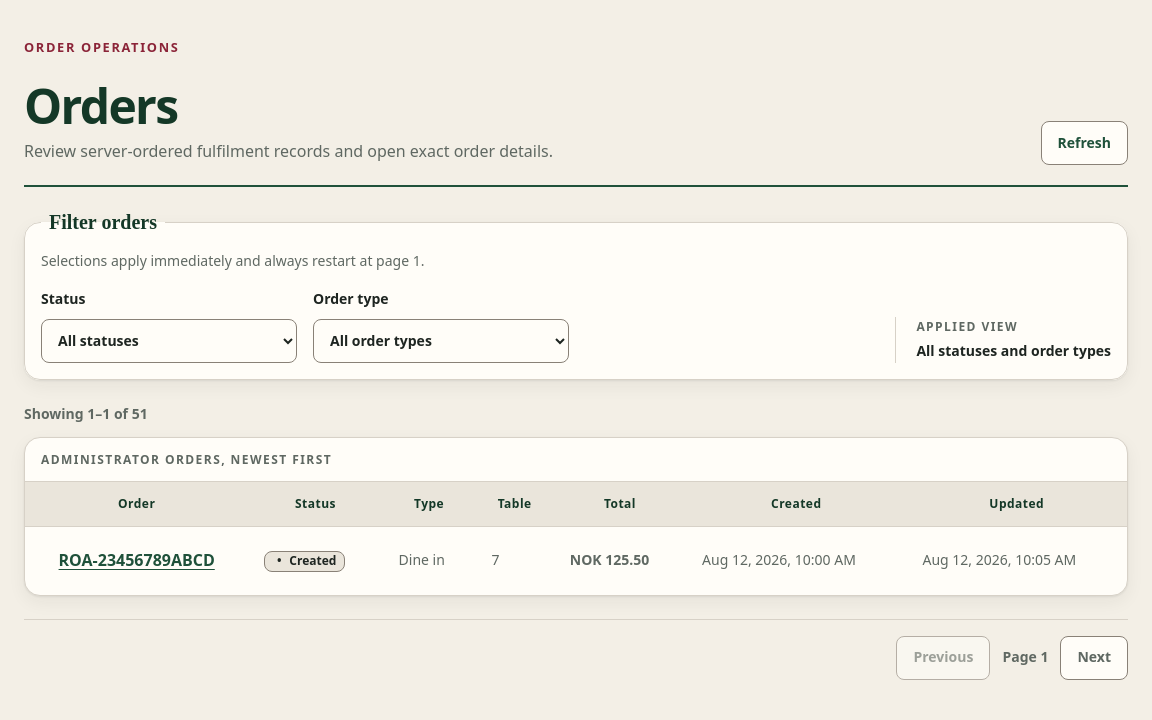
Test: administrator orders list › keeps filter intent focused when it supersedes a pending page request
(page scrolled)
Expected: the text "Showing 1–1 of 51" is shown, [24,404,148,423]
Click the button "Next" at (1094, 658), box [1060,636,1128,680]
(page scrolled)
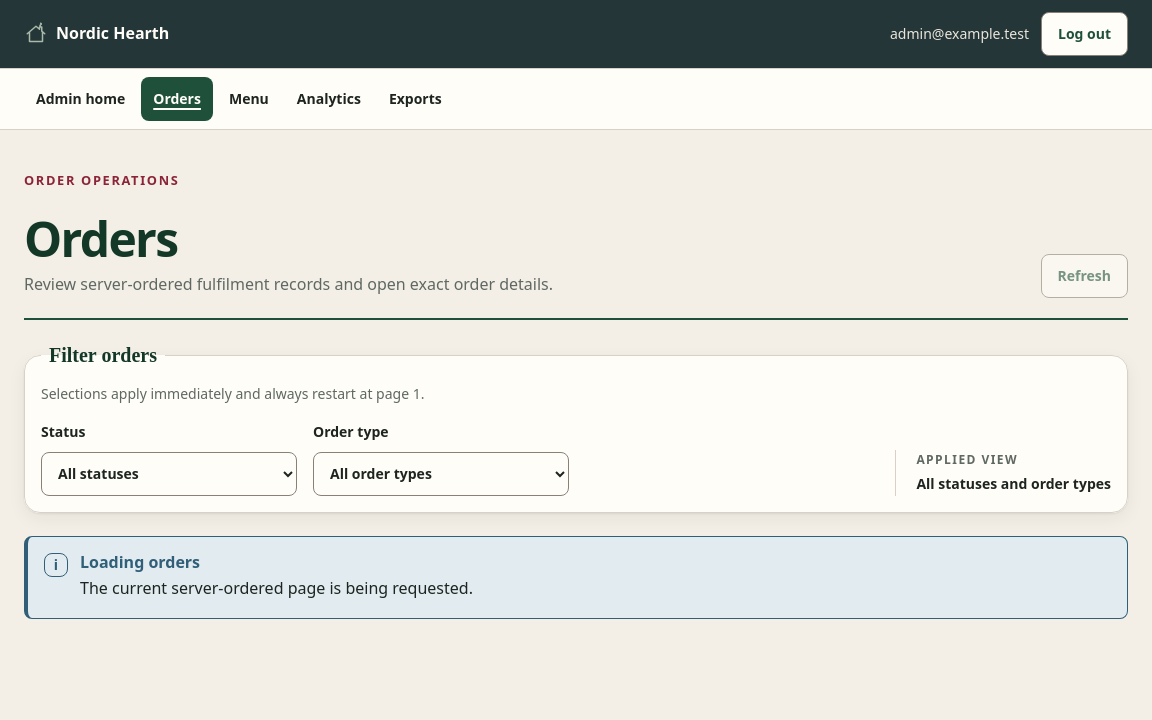
Select "Accepted" in the dropdown labelled "Status" at (169, 474), box [41,452,297,496]
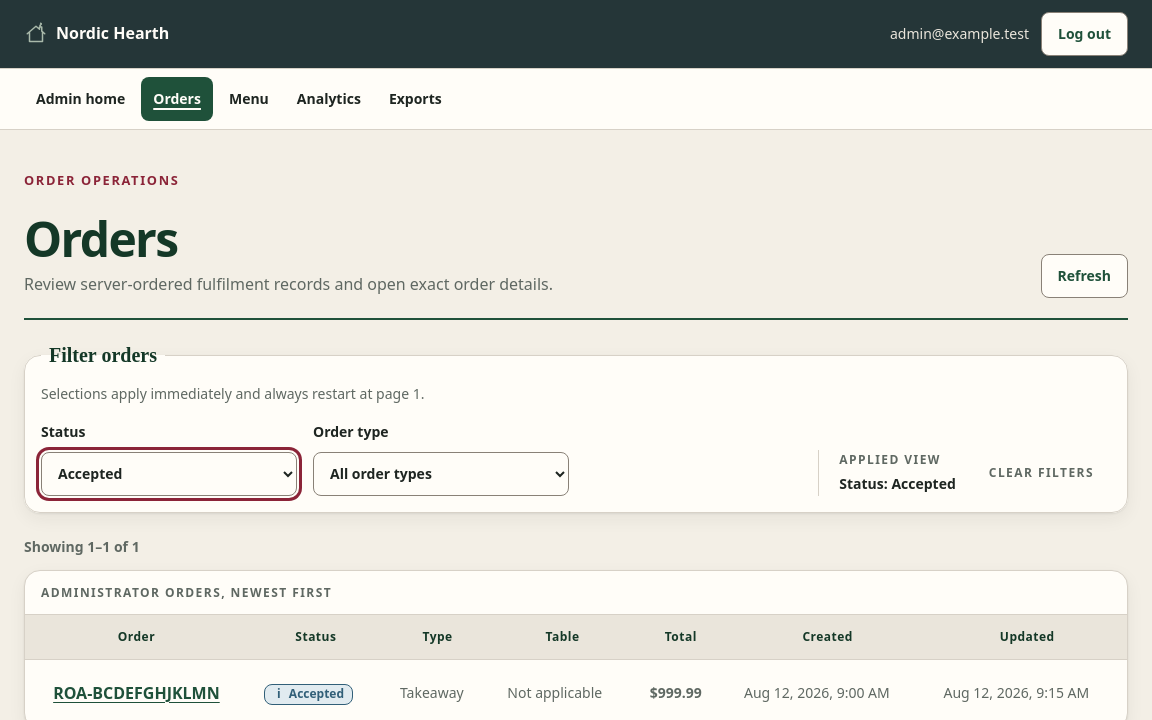
Expected: the link "ROA-BCDEFGHJKLMN" is shown, [53,682,220,704]
